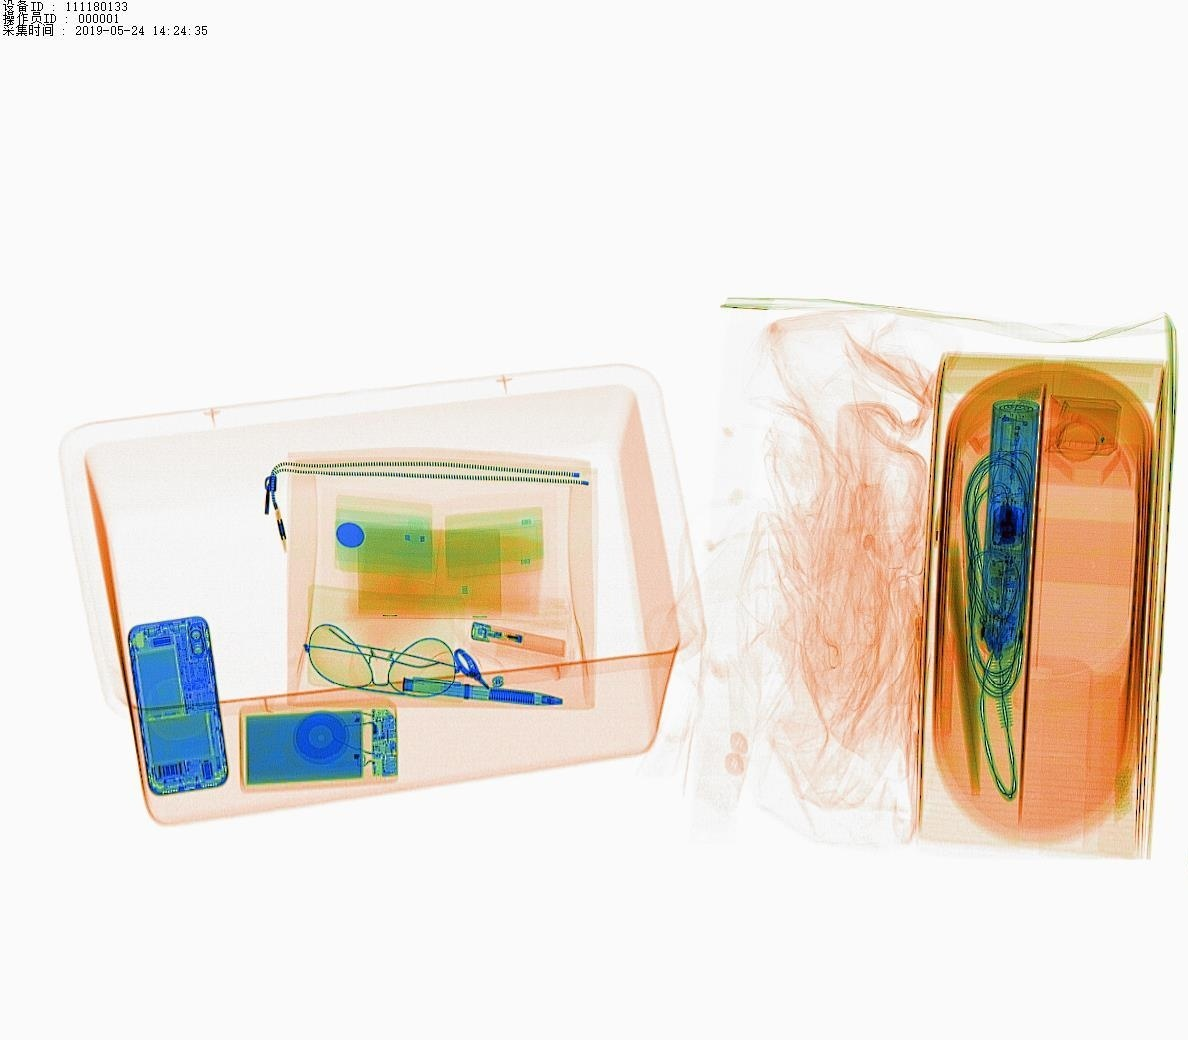NonmetallicFire: (472, 618, 603, 675)
